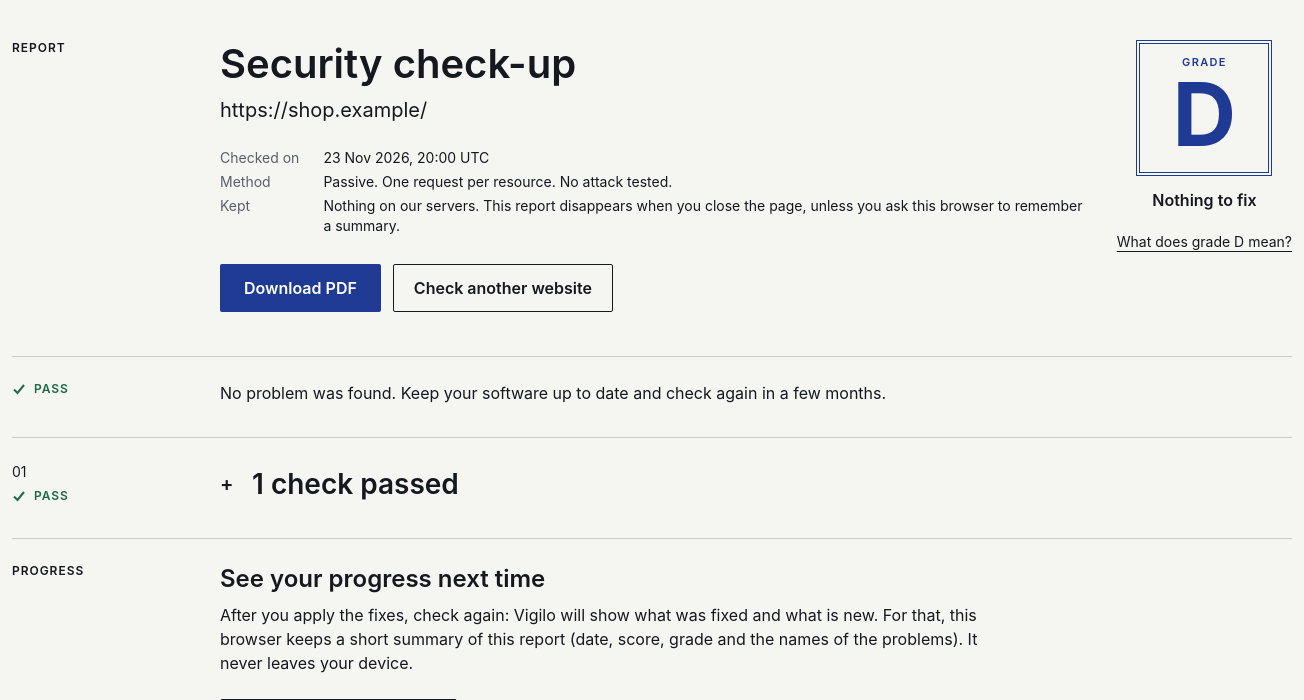
Grade explanation › opens the A to F scale with the site's grade and score
Click the button "What does grade D mean?": (1204, 242) [1117, 220, 1292, 264]
(page scrolled)
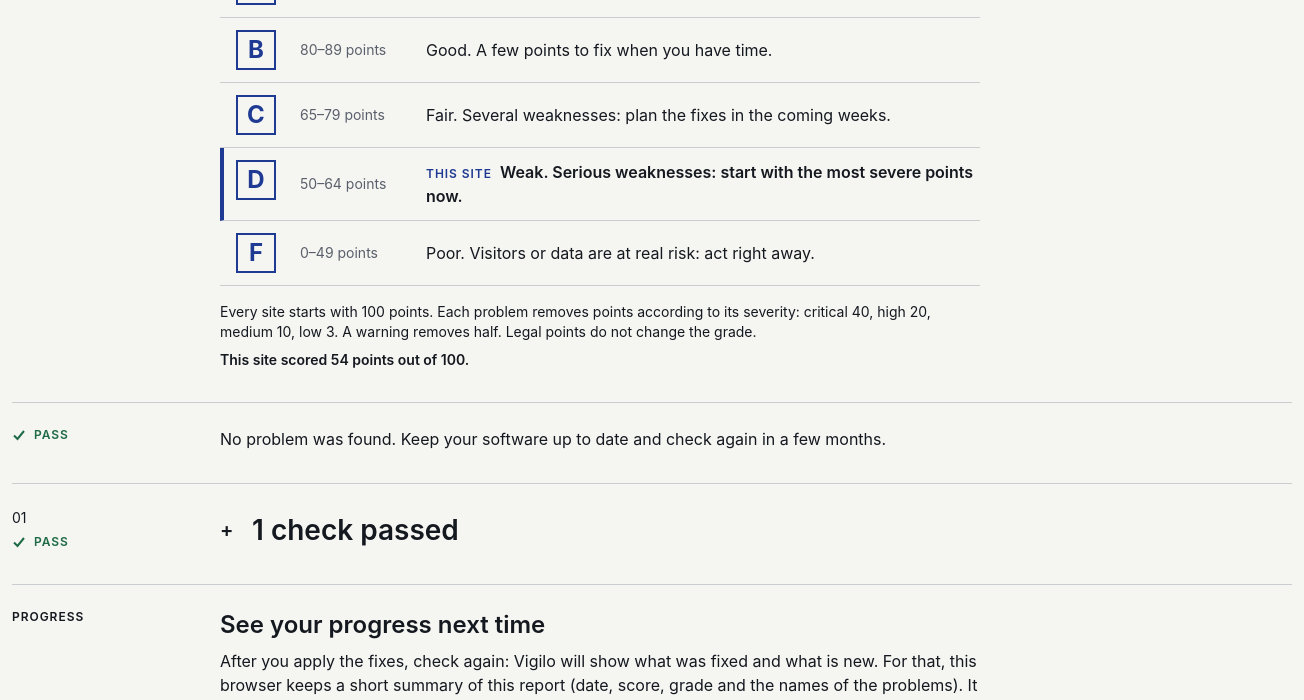
Expected: the list item that starts with "points" shows "Weak. Serious weaknesses: start with the most severe points now.", [426, 162, 973, 206]
